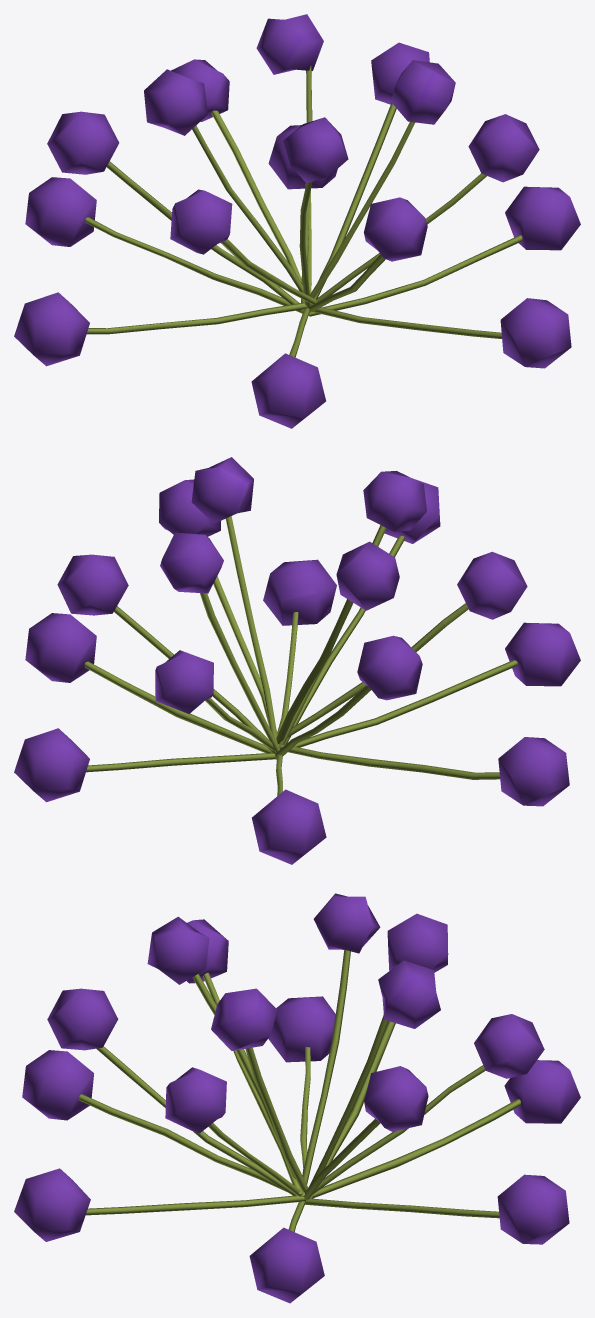
The model's file is end2.fbx.
3 renders of one model, top to bottom at view 1: azimuth 30°, elevation 25°; view 2: azimuth 150°, elevation 25°; view 3: azimuth 270°, elevation 25°, orthographic.
Visible parts, largest first — view 1: end2; view 2: end2; view 3: end2.
Boxes of the visible parts, bbox=[...] form: end2: bbox=[14, 14, 580, 428]; end2: bbox=[14, 457, 580, 864]; end2: bbox=[14, 893, 580, 1303].
Bounding box in the file's own units: 0.8626 × 0.3869 × 0.7795.
